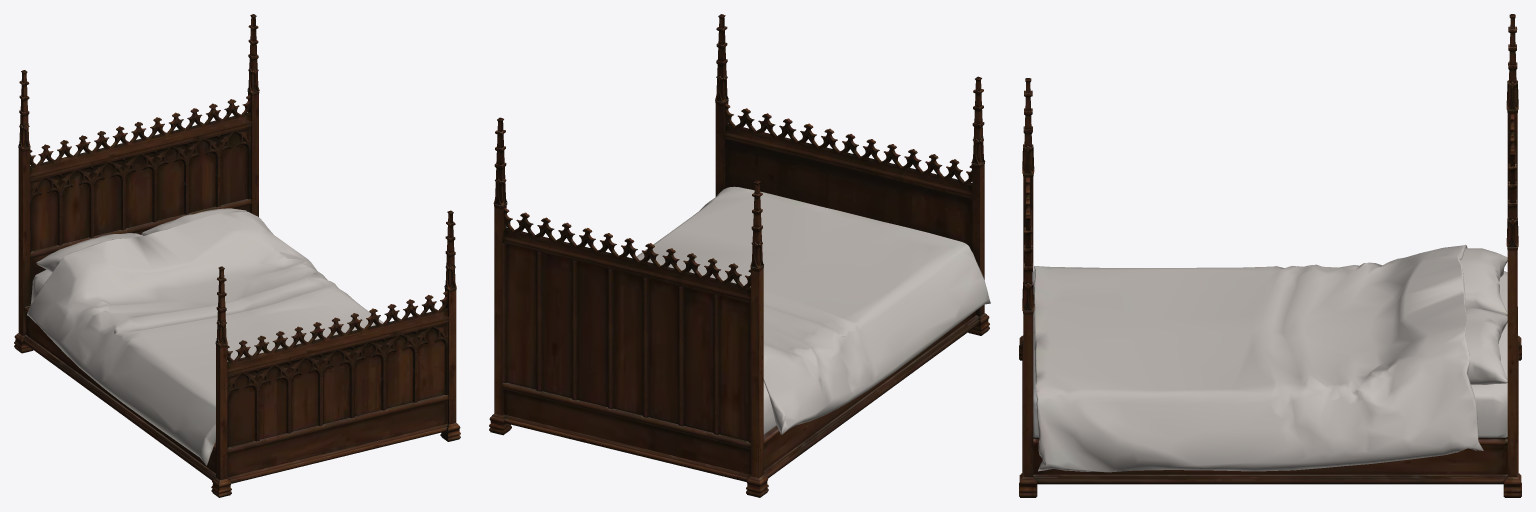
Rendered from GothicBed_01.glb.
The picture shows the model from 3 angles, left to right: view 1: azimuth 30°, elevation 25°; view 2: azimuth 150°, elevation 25°; view 3: azimuth 270°, elevation 25°; orthographic projection. The views are drawn at different scales.
Visible parts, largest first — view 1: GothicBed_01; view 2: GothicBed_01; view 3: GothicBed_01.
Part boxes in pixels (bbox=[...]): GothicBed_01: bbox=[14, 14, 460, 497]; GothicBed_01: bbox=[489, 14, 990, 497]; GothicBed_01: bbox=[1019, 14, 1521, 497].
Bounding box in the file's own units: 1.49 × 1.53 × 2.04.
2 materials, 2 textured.
